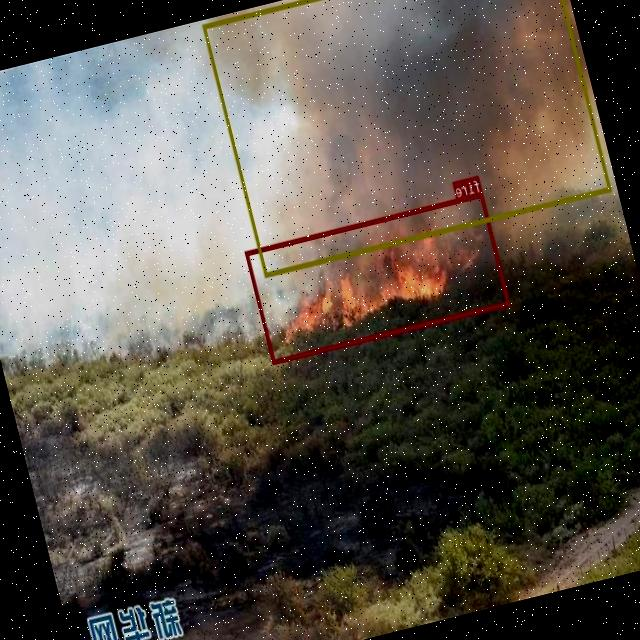fire: (245, 190, 511, 363)
smoke: (202, 0, 611, 276)
